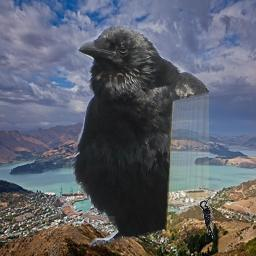Crow: (68, 24, 209, 247)
Woodpecker: (199, 198, 220, 239)
